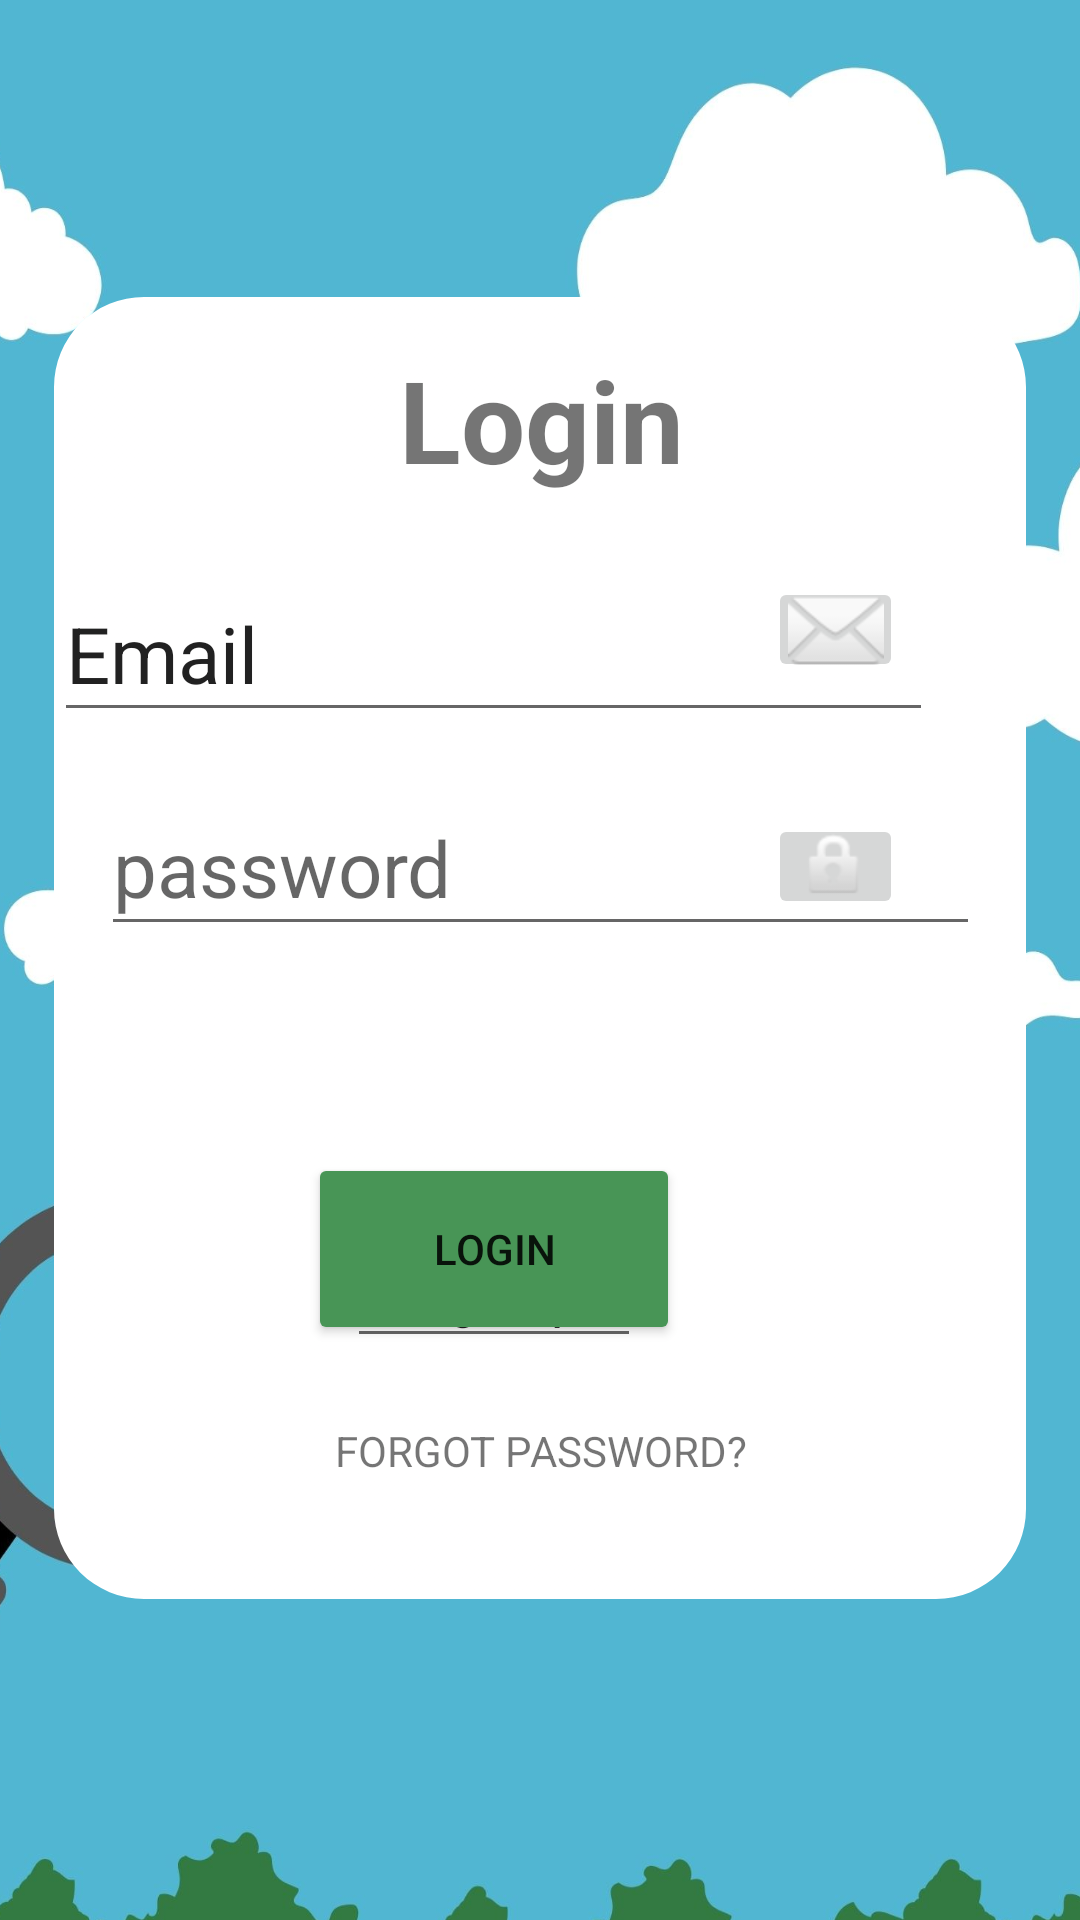

Point at icon controls on the screen. Image size 1080px×1920px, points as [x,y].
lock idle: [835,866]
